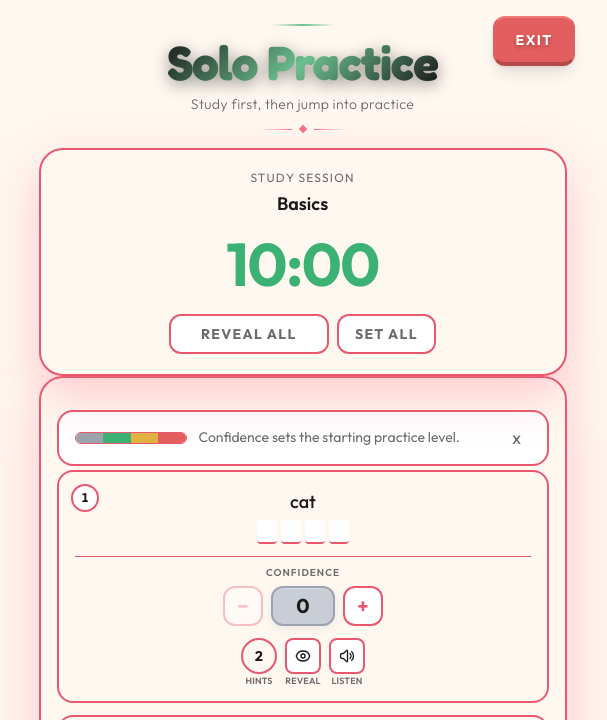
it: SoloLearnPage › sets all confidence values, leaves reveal state alone, and closes the dropdown
The width and height of the screenshot is (607, 720).
Click the button with test id "solo-learn-toggle-reveal-all": click(249, 334) [169,314,329,354]
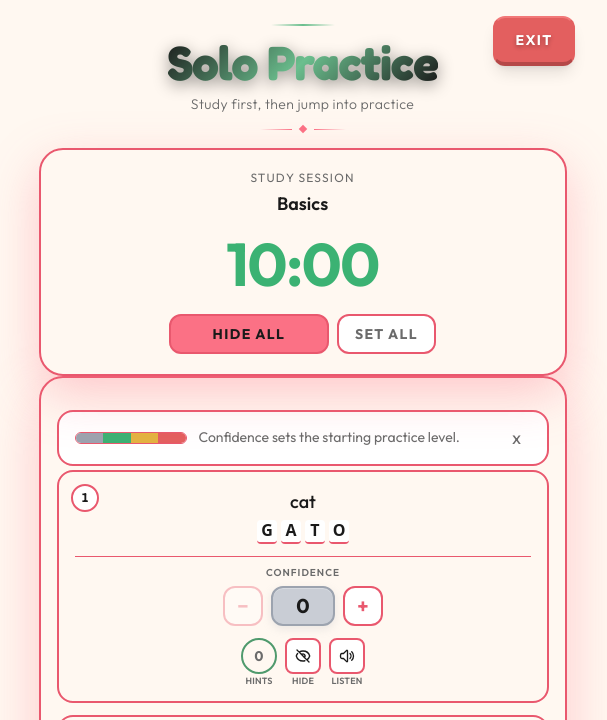
Click the button with test id "solo-learn-set-all-trigger": click(387, 334) [337,314,436,354]
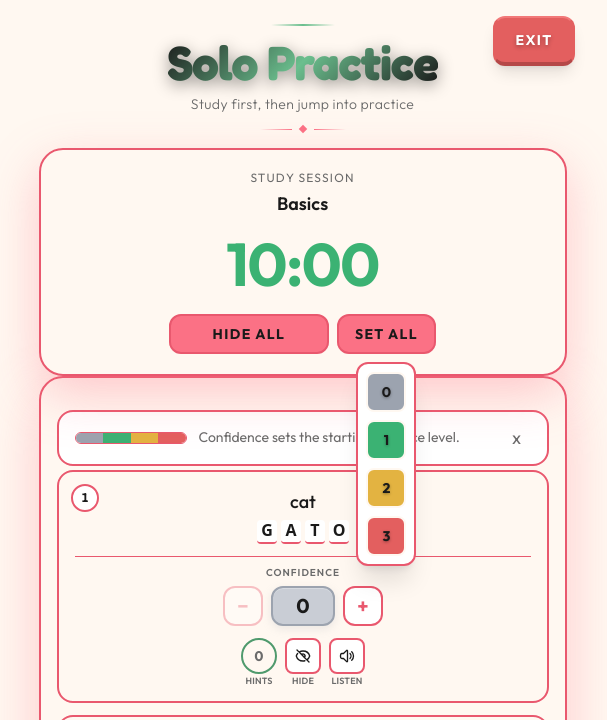
Expected: the element with test id "solo-learn-set-all-dropdown" is shown, [356,362,416,566]
Click the button with test id "solo-learn-set-all-level-3": click(386, 536) [366,516,406,556]
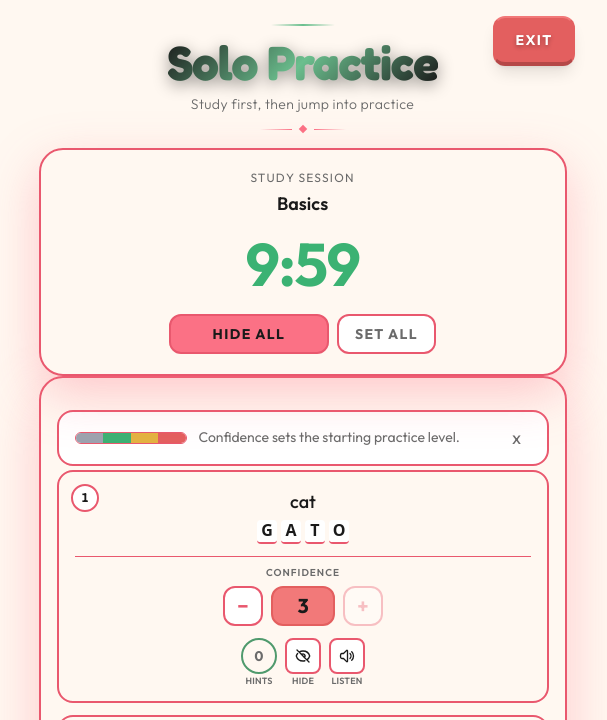
Expected: the button with test id "solo-learn-toggle-reveal-all" reads "Hide All", [169,314,329,354]
Expected: the element with test id "solo-learn-set-all-dropdown" is gone
